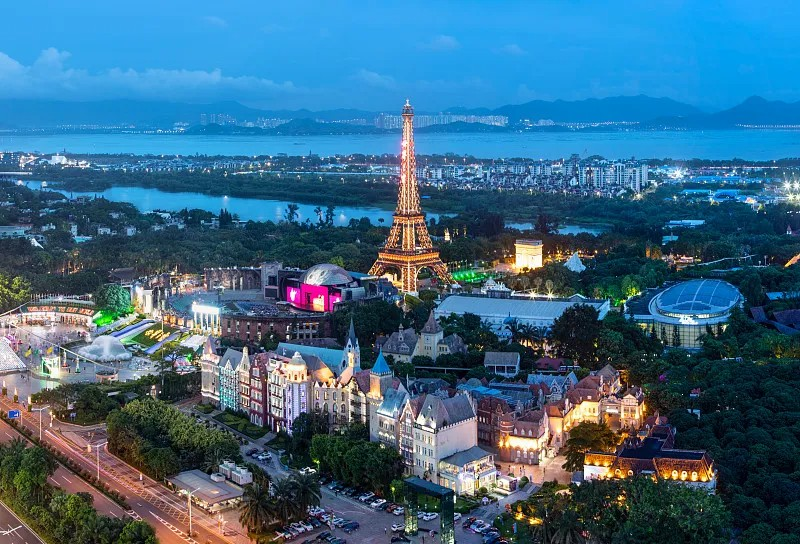Eiffel: (365, 100, 455, 293)
